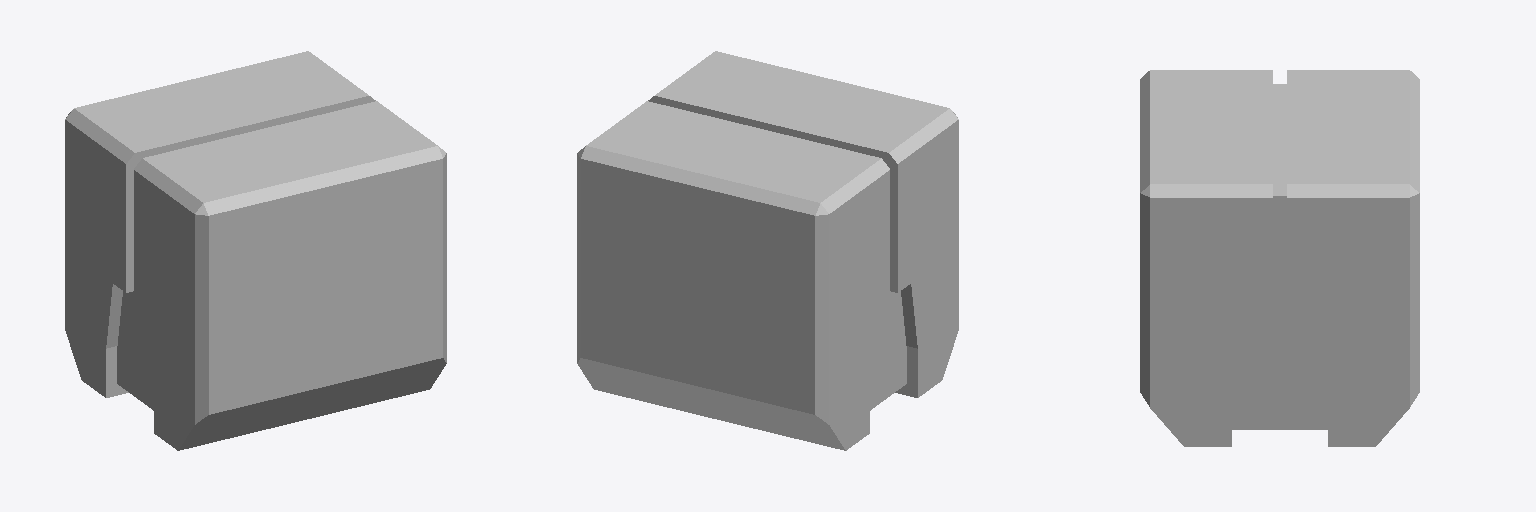
File: crate_mos_eisley.obj
3 renders of one model, left to right at view 1: azimuth 30°, elevation 25°; view 2: azimuth 150°, elevation 25°; view 3: azimuth 270°, elevation 25°, orthographic.
Visible parts, largest first — view 1: Cube_Cube.001; view 2: Cube_Cube.001; view 3: Cube_Cube.001.
Part boxes in pixels (bbox=[...]): Cube_Cube.001: bbox=[65, 51, 446, 450]; Cube_Cube.001: bbox=[577, 51, 958, 450]; Cube_Cube.001: bbox=[1140, 70, 1419, 446].
Size of the model in its own units: 1 by 0.9793 by 0.9609.